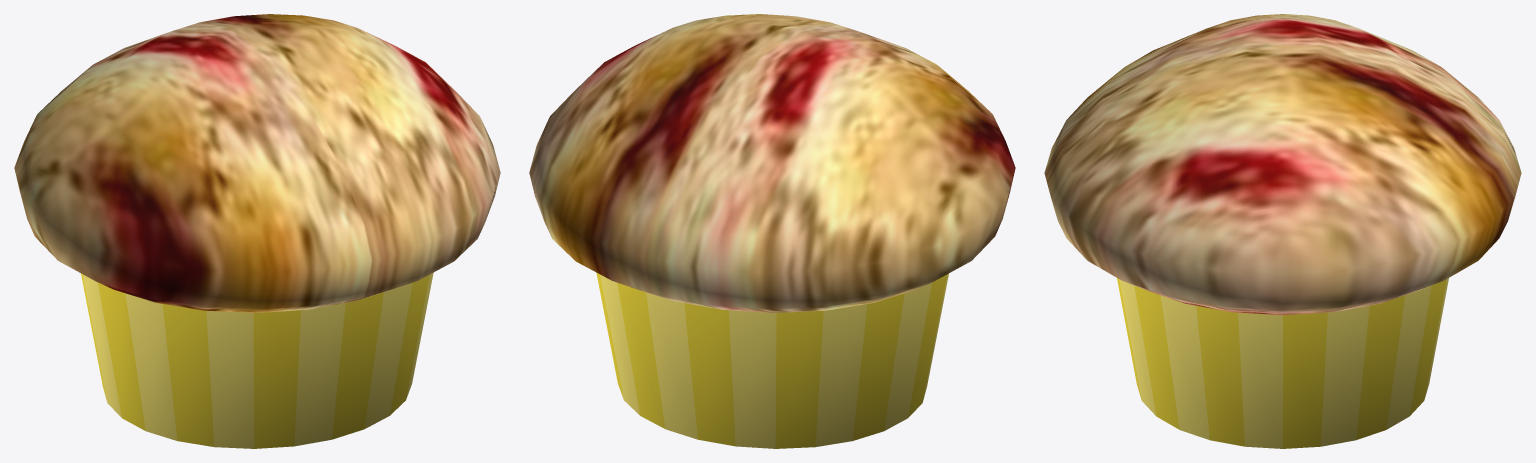
Rendered from Muffin.obj.
3 renders of one model, left to right at view 1: azimuth 30°, elevation 25°; view 2: azimuth 150°, elevation 25°; view 3: azimuth 270°, elevation 25°, orthographic.
Parts seen in each view (by area): view 1: Muffin.obj; view 2: Muffin.obj; view 3: Muffin.obj.
Part boxes in pixels (<box>): Muffin.obj: <box>14,14,500,448</box>; Muffin.obj: <box>529,14,1015,448</box>; Muffin.obj: <box>1044,14,1521,448</box>.
Size of the model in its own units: 5.54 by 4.3 by 5.53.
